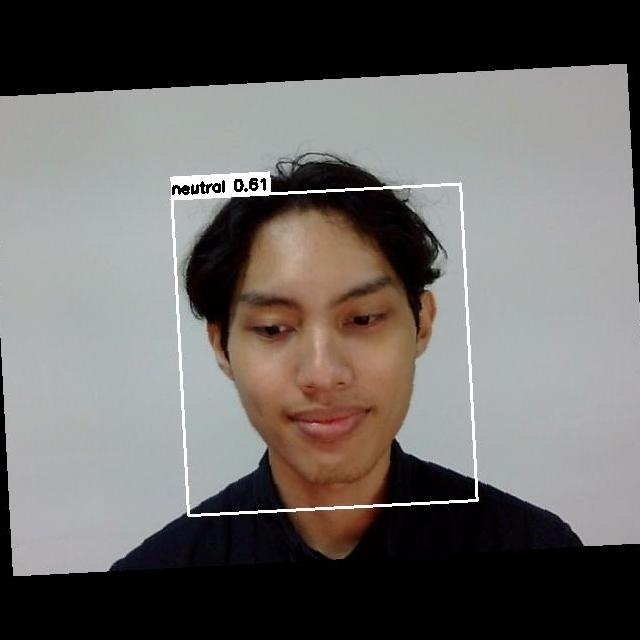Happy: (229, 263, 425, 458)
